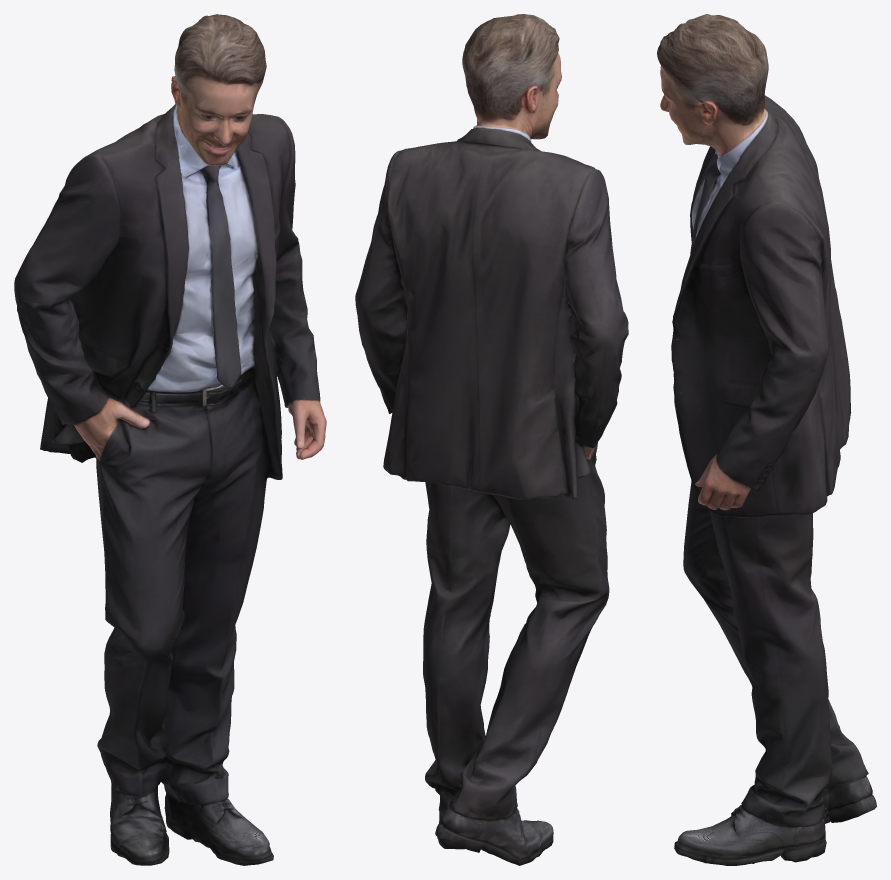
The model's file is man_3_o.glb.
The picture shows the model from 3 angles, left to right: view 1: azimuth 30°, elevation 25°; view 2: azimuth 150°, elevation 25°; view 3: azimuth 270°, elevation 25°; orthographic projection. The views are drawn at different scales.
Parts seen in each view (by area): view 1: rp_dennis_posed_004_30k; view 2: rp_dennis_posed_004_30k; view 3: rp_dennis_posed_004_30k.
Boxes of the visible parts, x1=… form: rp_dennis_posed_004_30k: x1=14, y1=14, x2=326, y2=865; rp_dennis_posed_004_30k: x1=355, y1=14, x2=628, y2=865; rp_dennis_posed_004_30k: x1=657, y1=14, x2=876, y2=865.
Bounding box in the file's own units: 0.6419 × 1.87 × 0.4498.
Materials: 1 (1 with a texture image).
